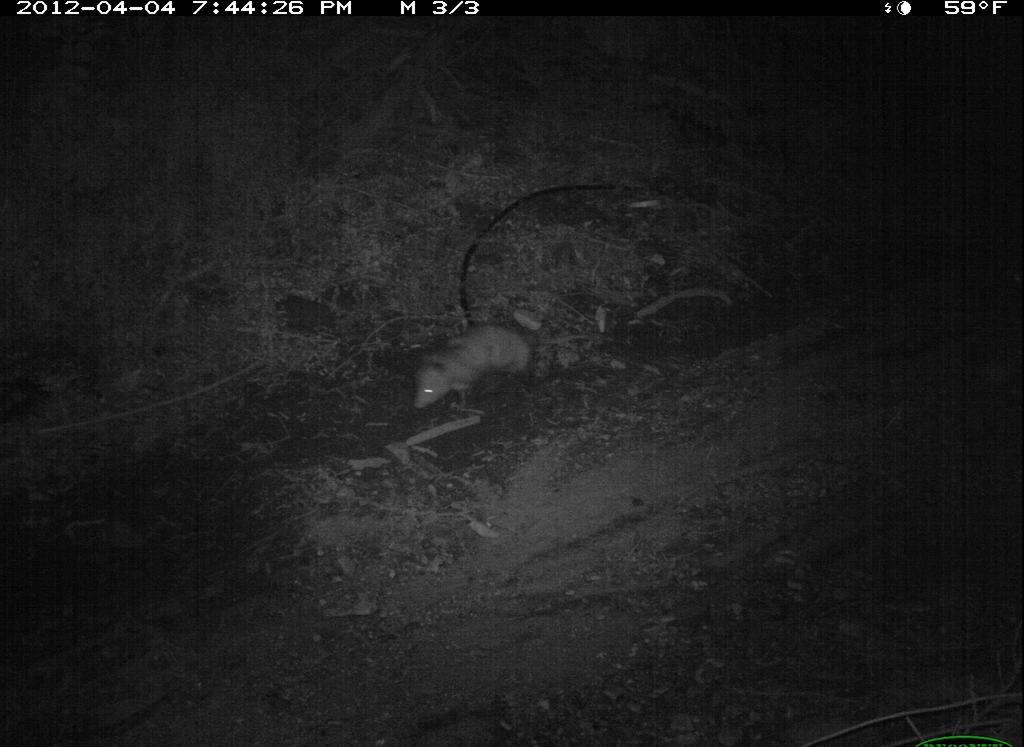opossum: (397, 315, 607, 424)
